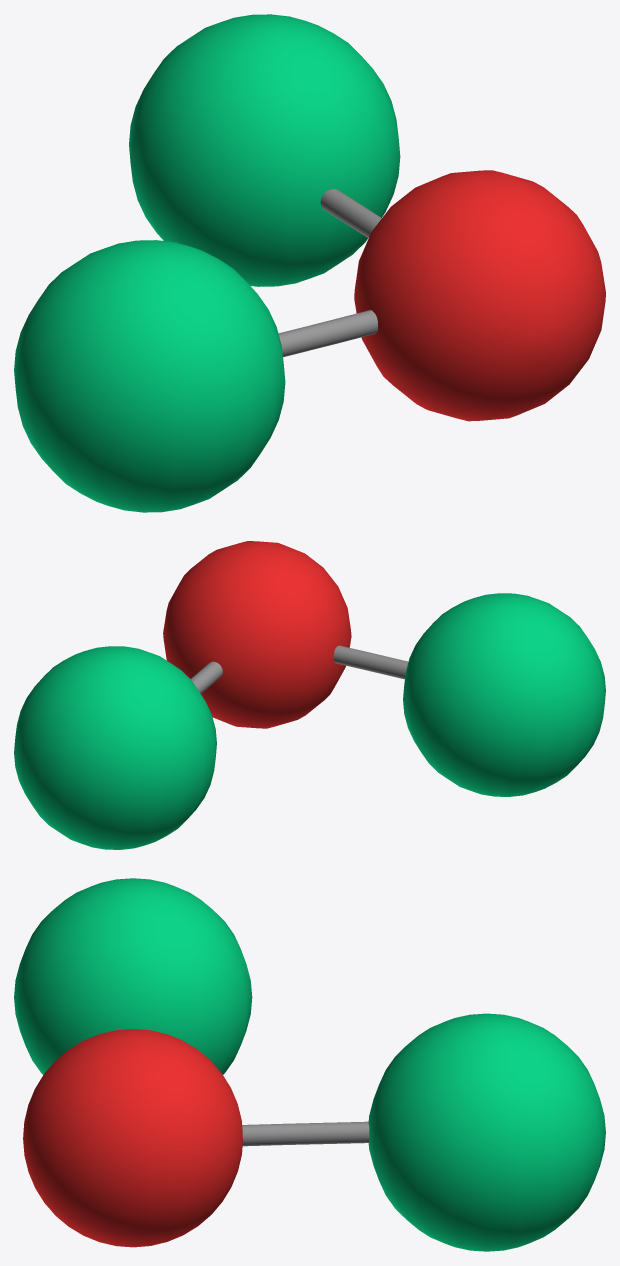
3 views of the same model, one above another, from view 1: azimuth 30°, elevation 25°; view 2: azimuth 150°, elevation 25°; view 3: azimuth 270°, elevation 25° (orthographic). The views are drawn at different scales.
Visible parts, largest first — view 1: K2O; view 2: K2O; view 3: K2O.
Boxes of the visible parts, left/top/right/bottom form: K2O: left=14, top=14, right=605, bottom=512; K2O: left=14, top=541, right=605, bottom=849; K2O: left=14, top=878, right=605, bottom=1251.
Size of the model in its own units: 4.72 by 2 by 4.97.
